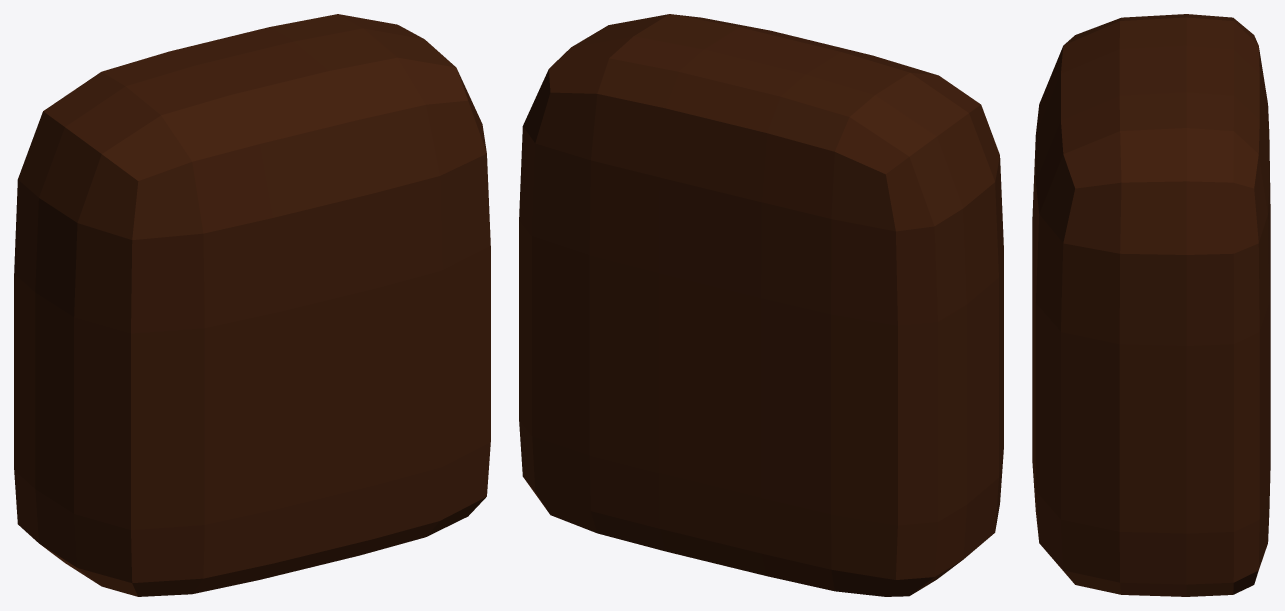
Rendered from palacewall.fbx.
3 renders of one model, left to right at view 1: azimuth 30°, elevation 25°; view 2: azimuth 150°, elevation 25°; view 3: azimuth 270°, elevation 25°, orthographic. The views are drawn at different scales.
Parts seen in each view (by area): view 1: Cube; view 2: Cube; view 3: Cube.
Part boxes in pixels (x1,y1,x2,y2): Cube: (14, 14, 490, 596); Cube: (519, 14, 1003, 596); Cube: (1032, 14, 1270, 596).
Size of the model in its own units: 1390 by 1507 by 718.
